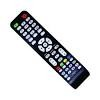remote control: (4, 5, 92, 92)
